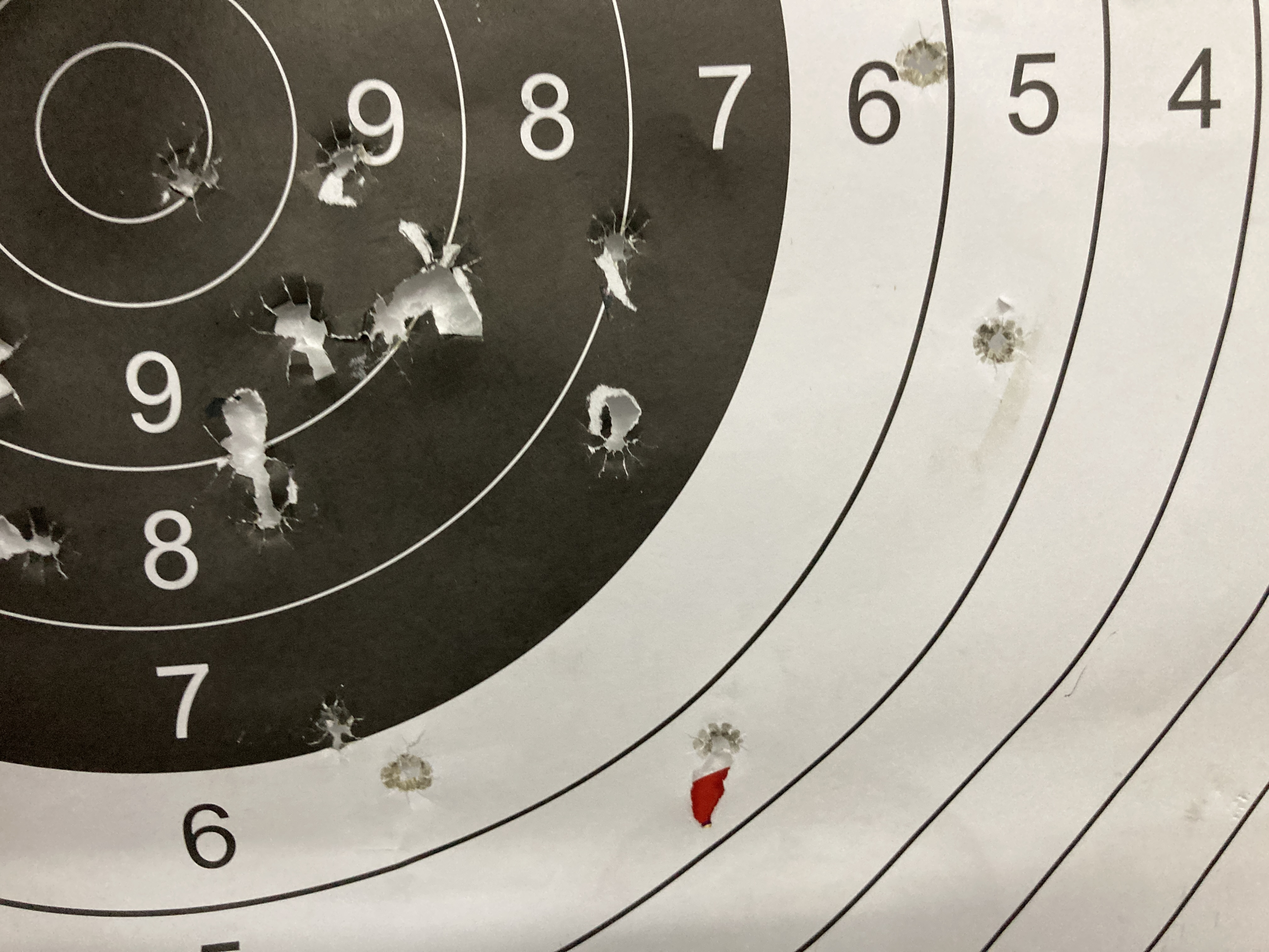hole: (378, 242, 522, 368), (245, 268, 365, 406), (211, 469, 324, 567), (296, 113, 390, 201), (563, 387, 661, 469), (189, 375, 280, 453), (148, 129, 223, 220), (0, 526, 98, 592), (674, 724, 733, 815), (595, 236, 651, 312), (368, 756, 444, 809), (976, 309, 1029, 384), (315, 693, 378, 756), (906, 41, 954, 104)
